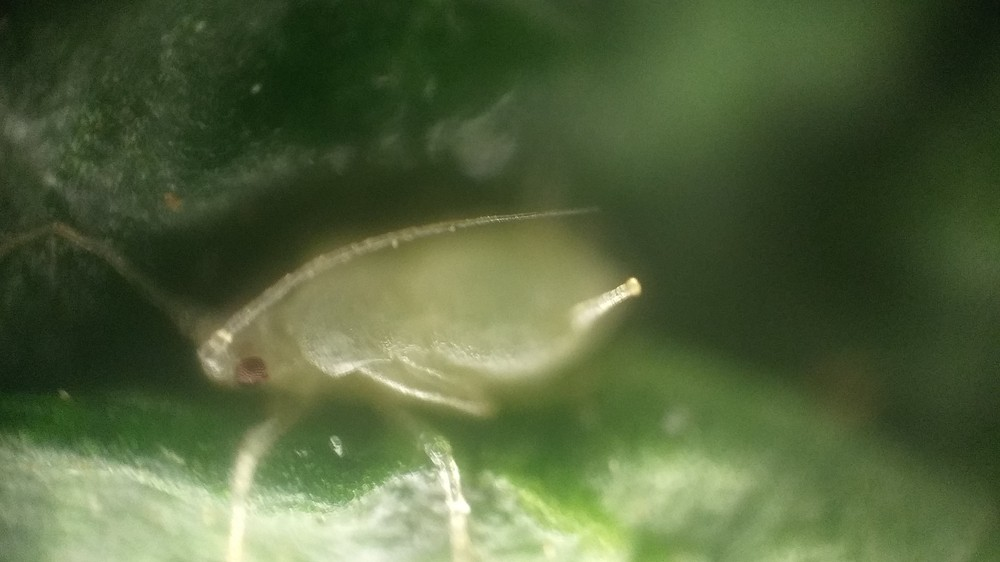Pulgon: (64, 169, 691, 557)
